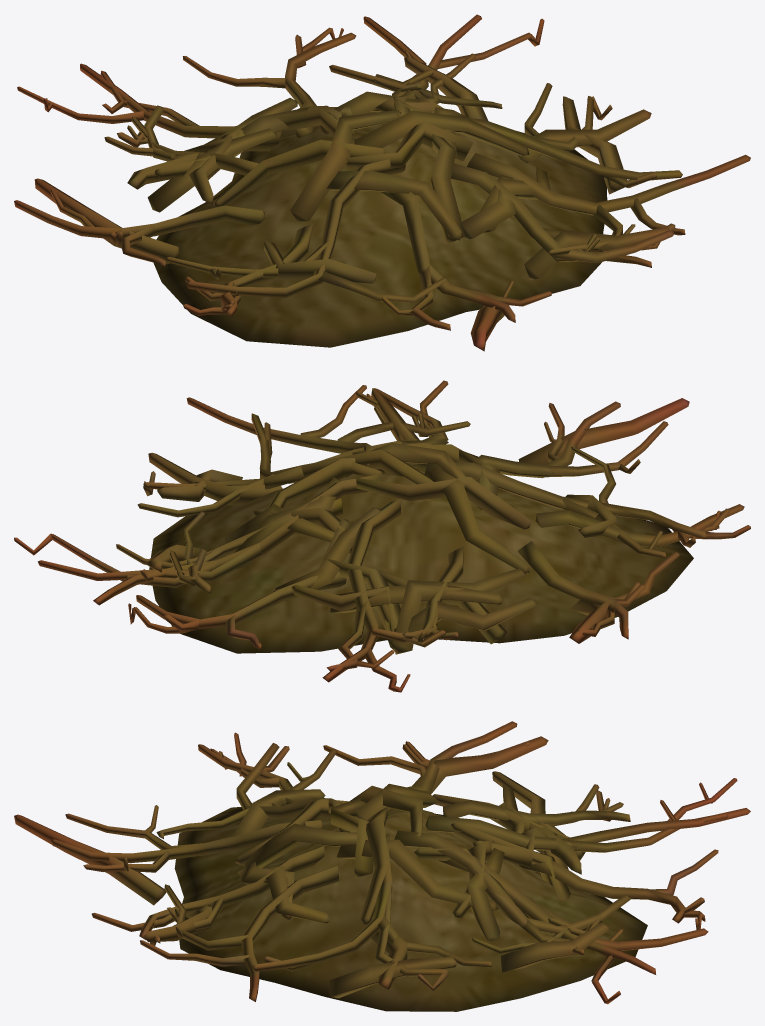
The model's file is drift_algae_mat.glb.
3 views of the same model, one above another, from view 1: azimuth 30°, elevation 25°; view 2: azimuth 150°, elevation 25°; view 3: azimuth 270°, elevation 25° (orthographic). The views are drawn at different scales.
Parts seen in each view (by area): view 1: drift_algae_mat; view 2: drift_algae_mat; view 3: drift_algae_mat.
Part boxes in pixels (x1,y1,x2,y2): drift_algae_mat: (14,14,750,351); drift_algae_mat: (14,380,750,692); drift_algae_mat: (14,721,750,1011).
Bounding box in the file's own units: 0.2324 × 0.0416 × 0.2625.
1 material, 1 textured.
